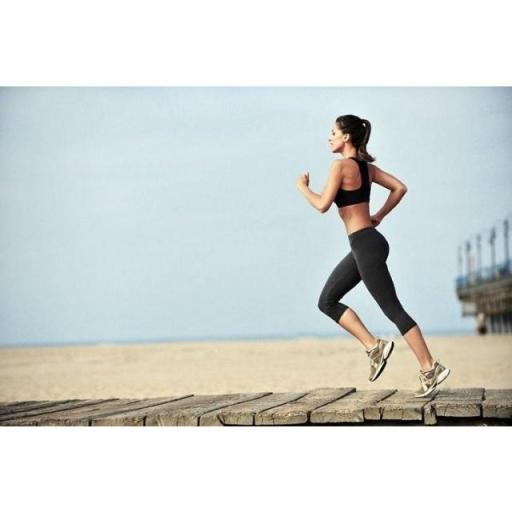Running: (284, 106, 464, 402)
